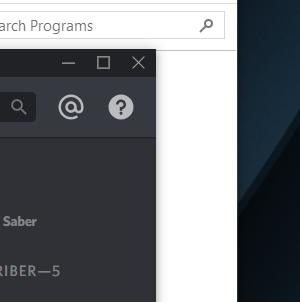close: (125, 51, 152, 75)
